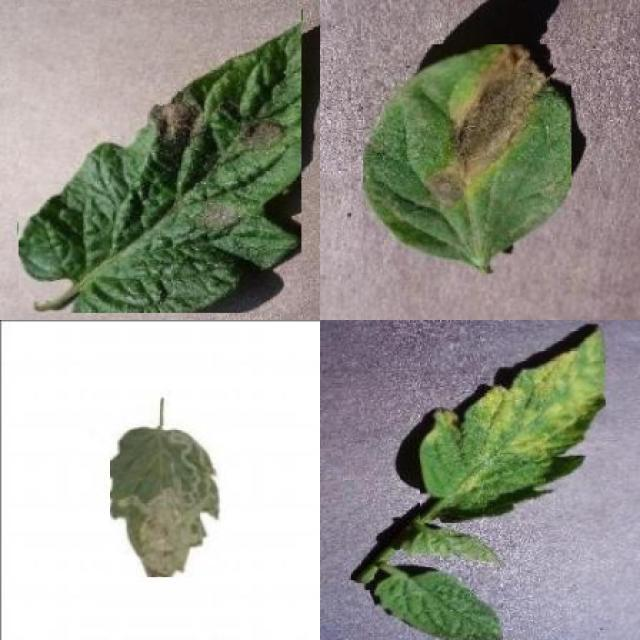Early Blight: (364, 44, 572, 266)
Healthy: (374, 567, 502, 640)
Late Blight: (19, 7, 302, 313)
Leaf Miner: (110, 426, 221, 577)
Leaf Mold: (420, 323, 606, 523)
